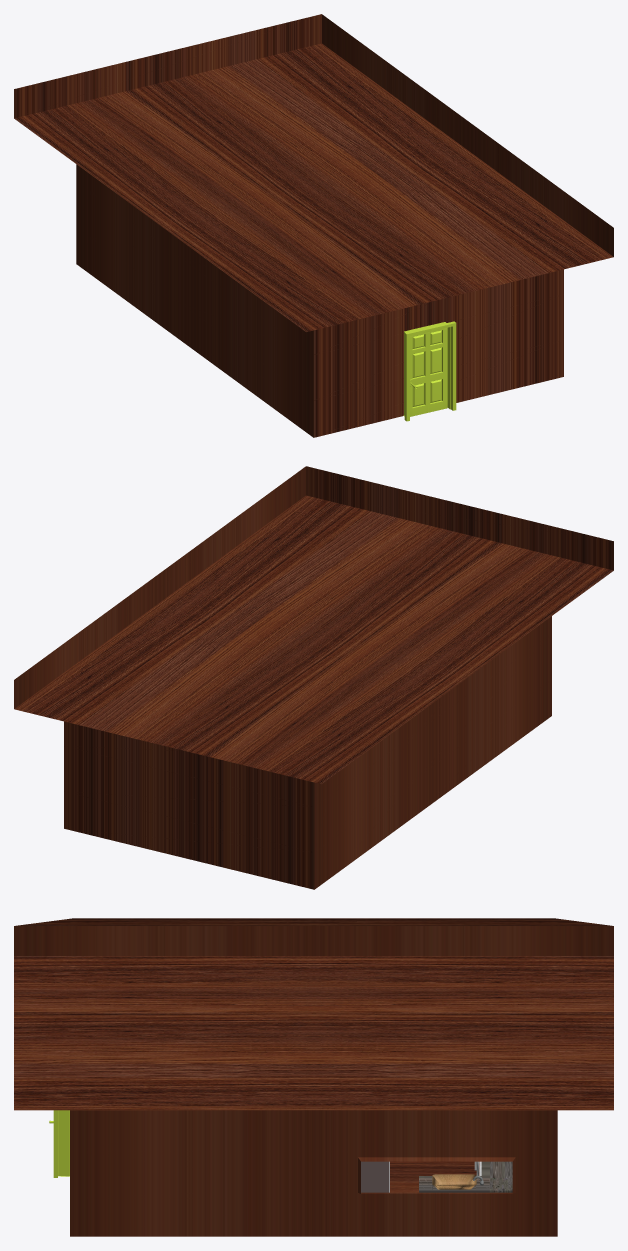
The model's file is doan13.glb.
The picture shows the model from 3 angles, top to bottom: view 1: azimuth 30°, elevation 25°; view 2: azimuth 150°, elevation 25°; view 3: azimuth 270°, elevation 25°; orthographic projection. The views are drawn at different scales.
Visible parts, largest first — view 1: House, Cua_Vao; view 2: House; view 3: House, Bep, Cua_Vao, Tu lanh.
Part boxes in pixels (x1=…): House: x1=14, y1=14, x2=613, y2=437; Cua_Vao: x1=403, y1=321, x2=456, y2=421; House: x1=14, y1=466, x2=613, y2=889; House: x1=14, y1=918, x2=613, y2=1236; Bep: x1=419, y1=1161, x2=512, y2=1192; Cua_Vao: x1=49, y1=1110, x2=69, y2=1177; Tu lanh: x1=361, y1=1161, x2=389, y2=1192.
Size of the model in its own units: 22.4 by 12.9 by 36.81.
31 materials, 8 textured.
